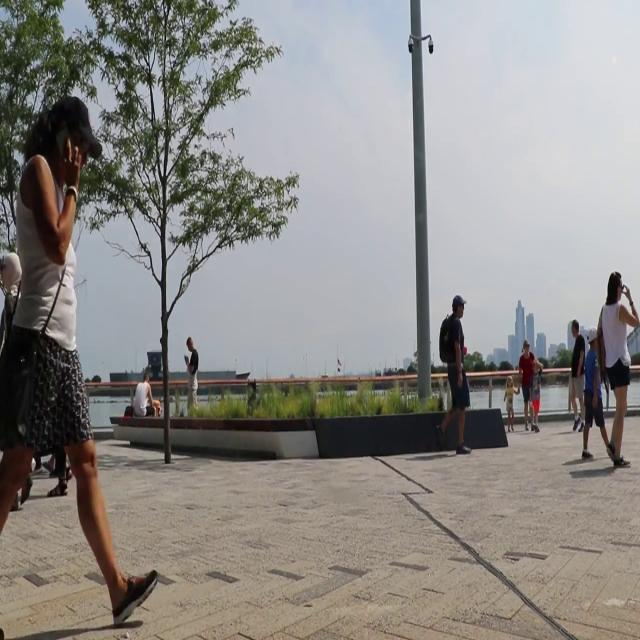normal: (2, 94, 159, 630), (597, 266, 640, 466), (434, 292, 476, 449), (564, 316, 588, 440)
